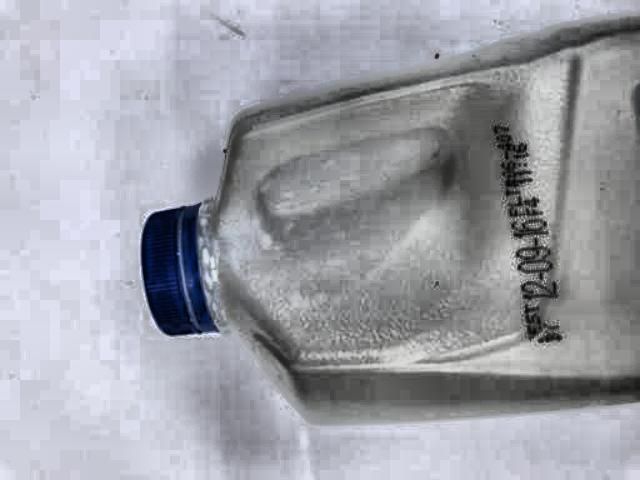Plastic: (110, 9, 640, 464)
